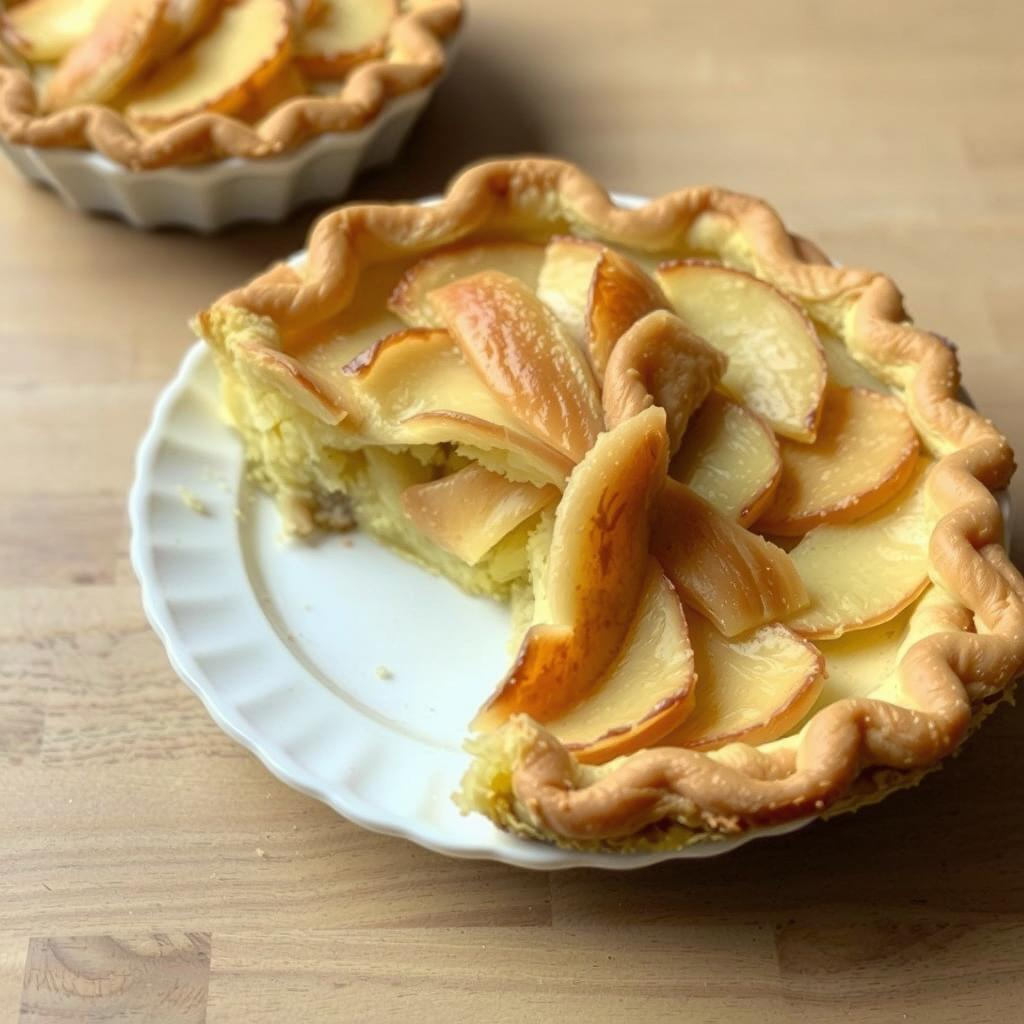cake: (169, 144, 1024, 866), (0, 0, 470, 231)
